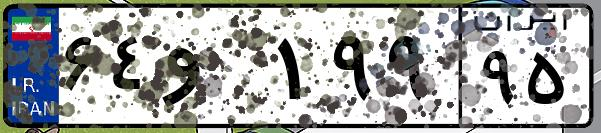1: (270, 28, 330, 110)
4: (110, 28, 158, 98)
5: (525, 38, 570, 115)
6: (57, 26, 110, 100)
9: (385, 28, 445, 110), (330, 28, 385, 110), (475, 38, 525, 113)
و: (158, 20, 270, 120)
